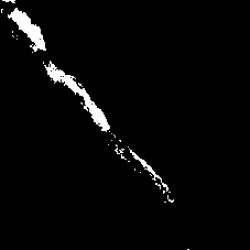crack: (1, 3, 178, 208)
